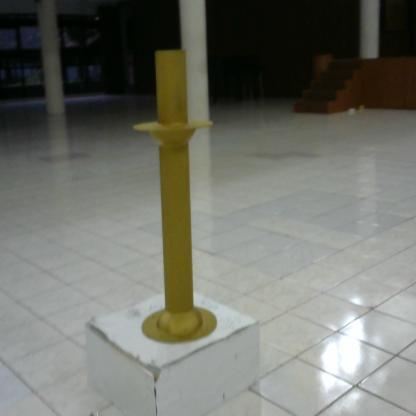pole: (125, 40, 224, 356)
